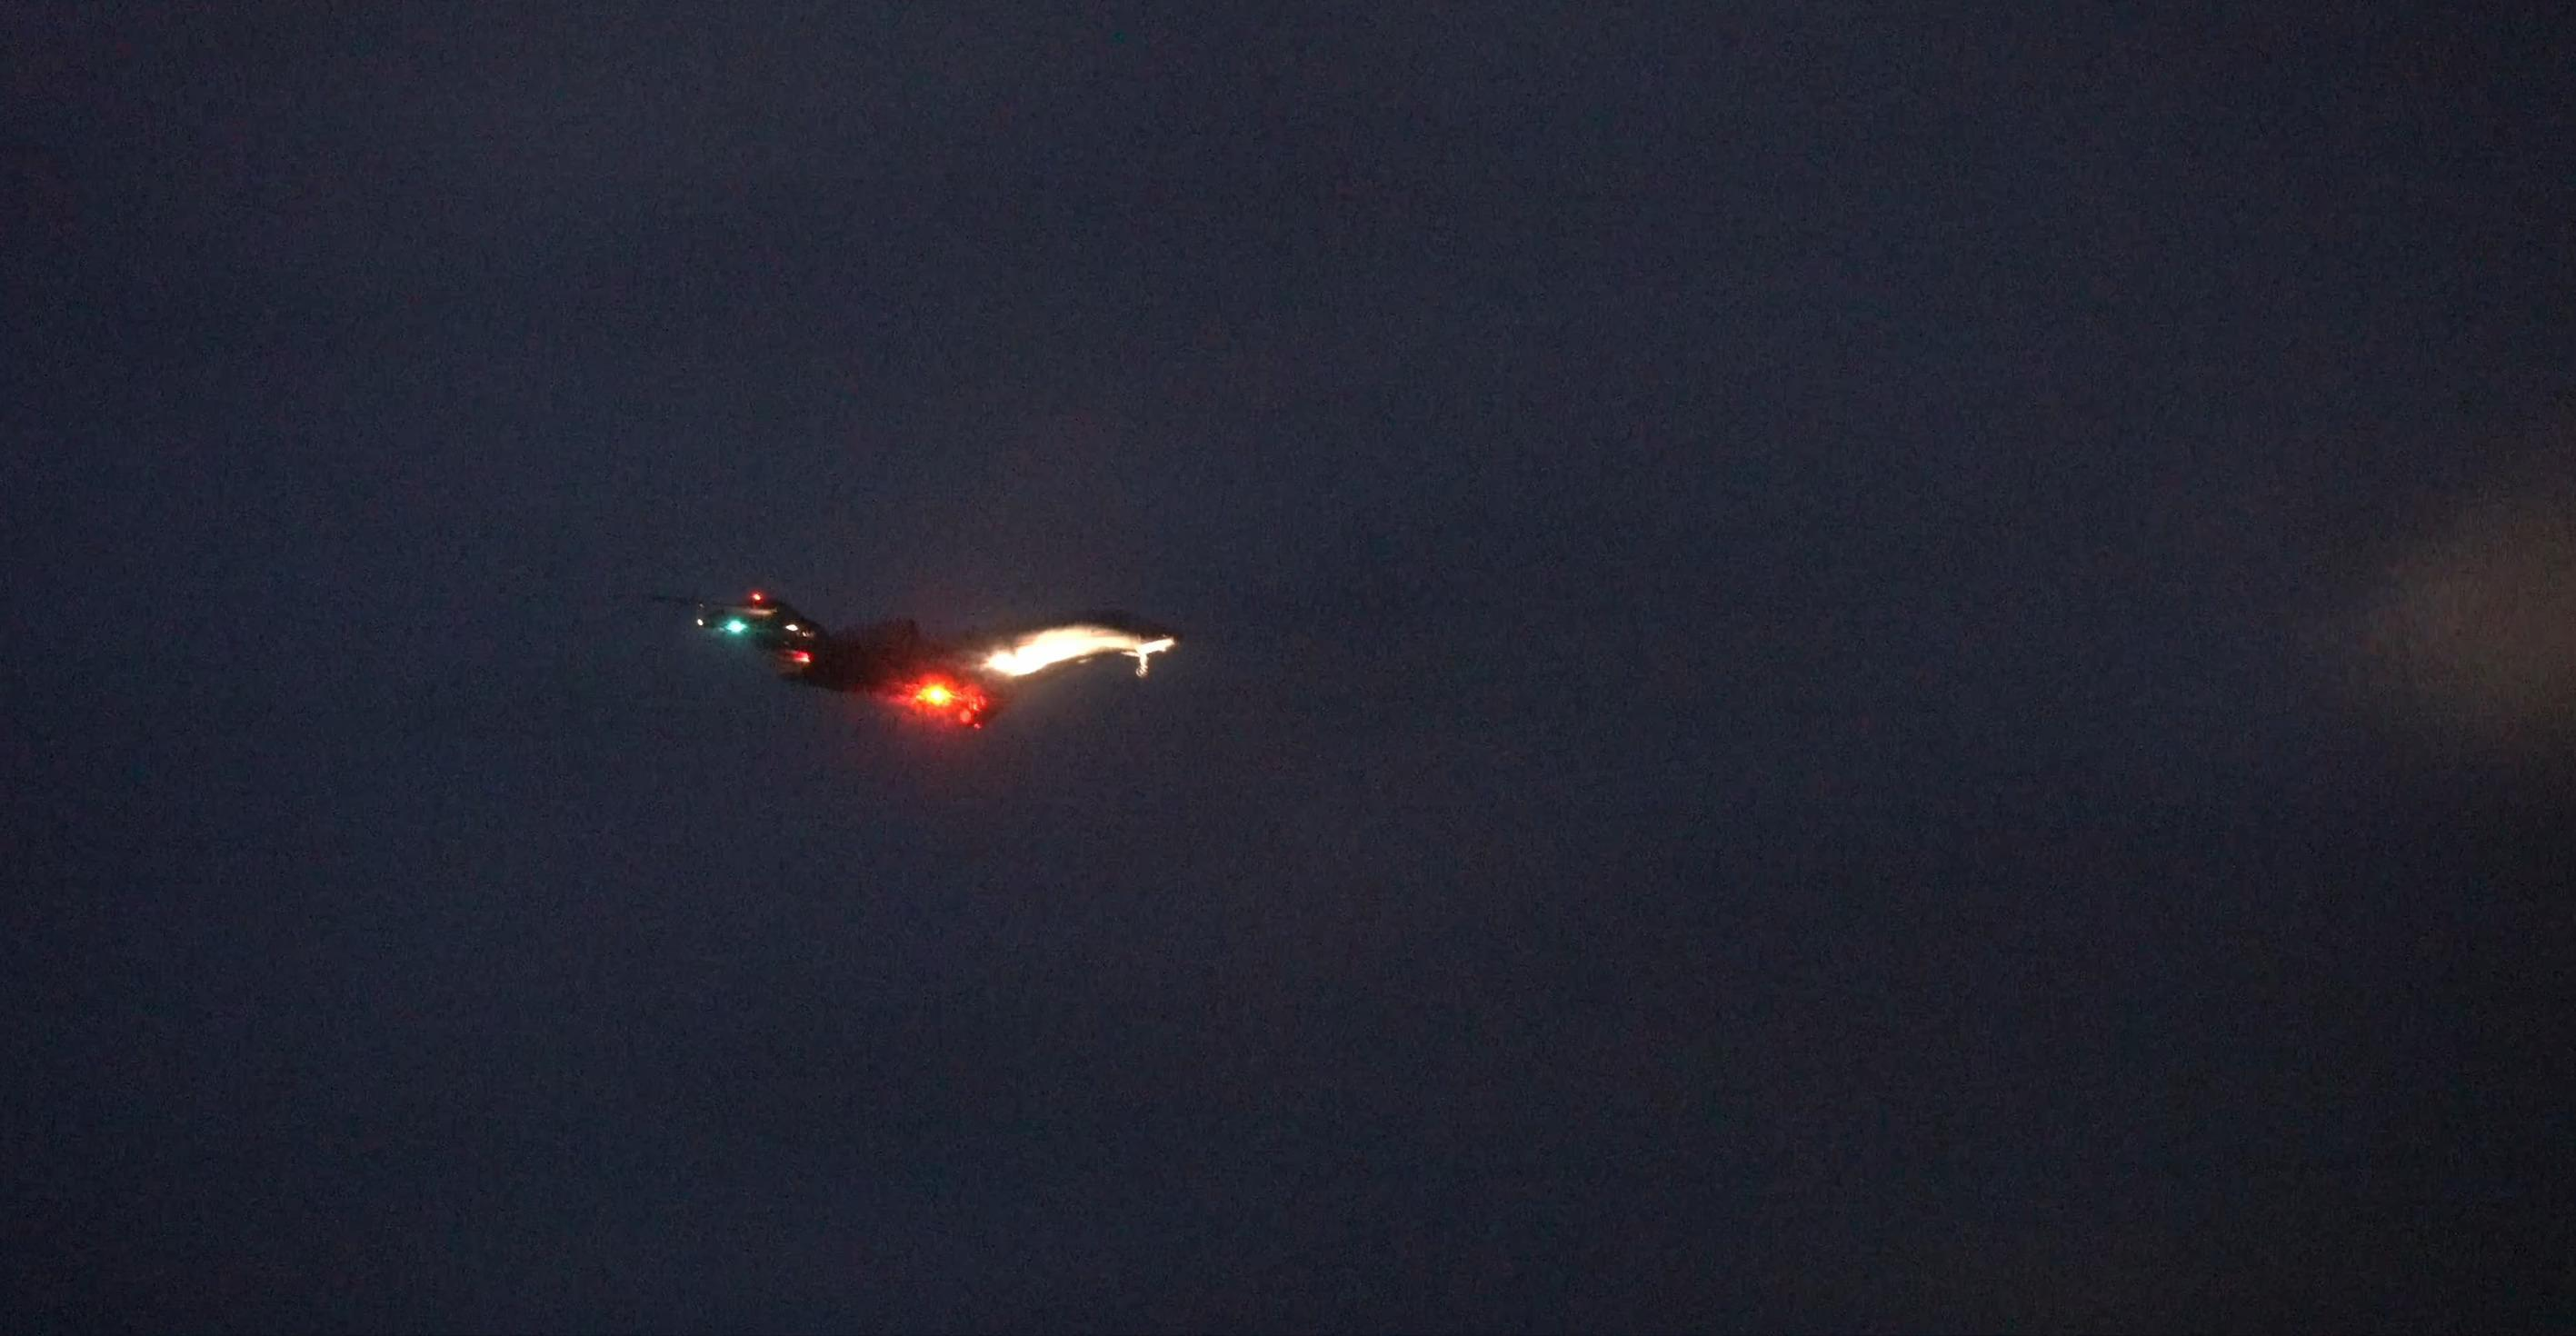Plane: (630, 569, 1213, 772)
